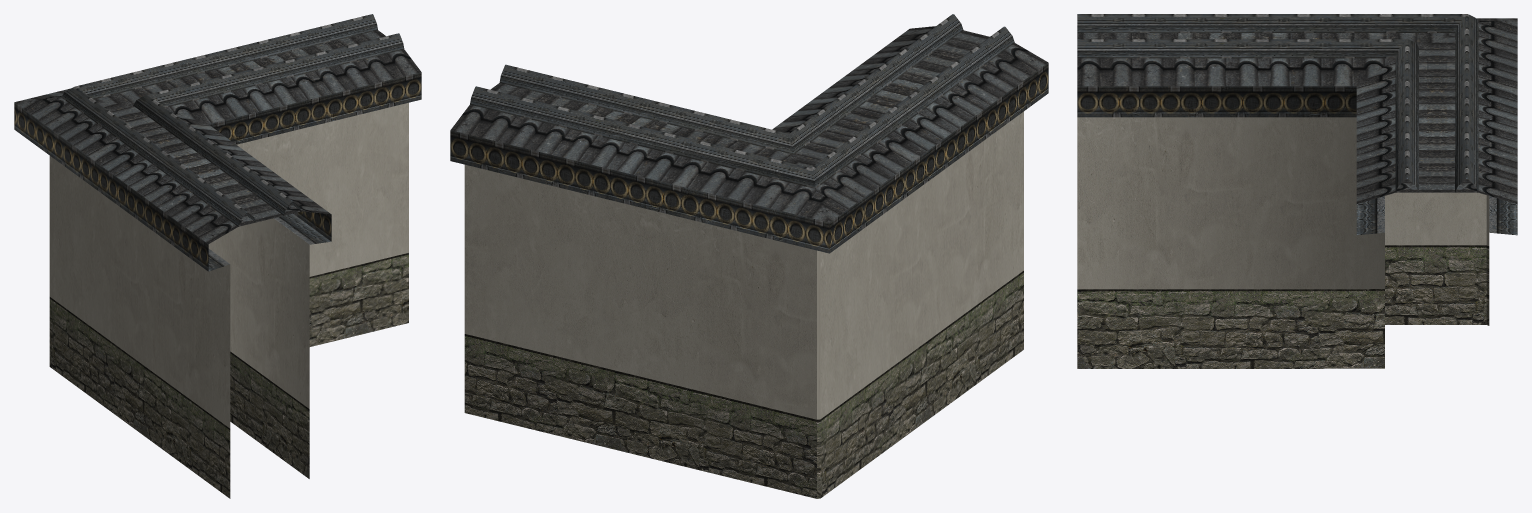
The model's file is japanese_wall_corner.FBX.
3 renders of one model, left to right at view 1: azimuth 30°, elevation 25°; view 2: azimuth 150°, elevation 25°; view 3: azimuth 270°, elevation 25°, orthographic. The views are drawn at different scales.
Parts seen in each view (by area): view 1: japanese_wall_corner_high_005; view 2: japanese_wall_corner_high_005; view 3: japanese_wall_corner_high_005.
Boxes of the visible parts, box(x1,y1,x2,y2) form: japanese_wall_corner_high_005: box(14, 14, 421, 498); japanese_wall_corner_high_005: box(450, 14, 1048, 498); japanese_wall_corner_high_005: box(1077, 14, 1517, 368).
Bounding box in the file's own units: 428 × 343 × 428.
